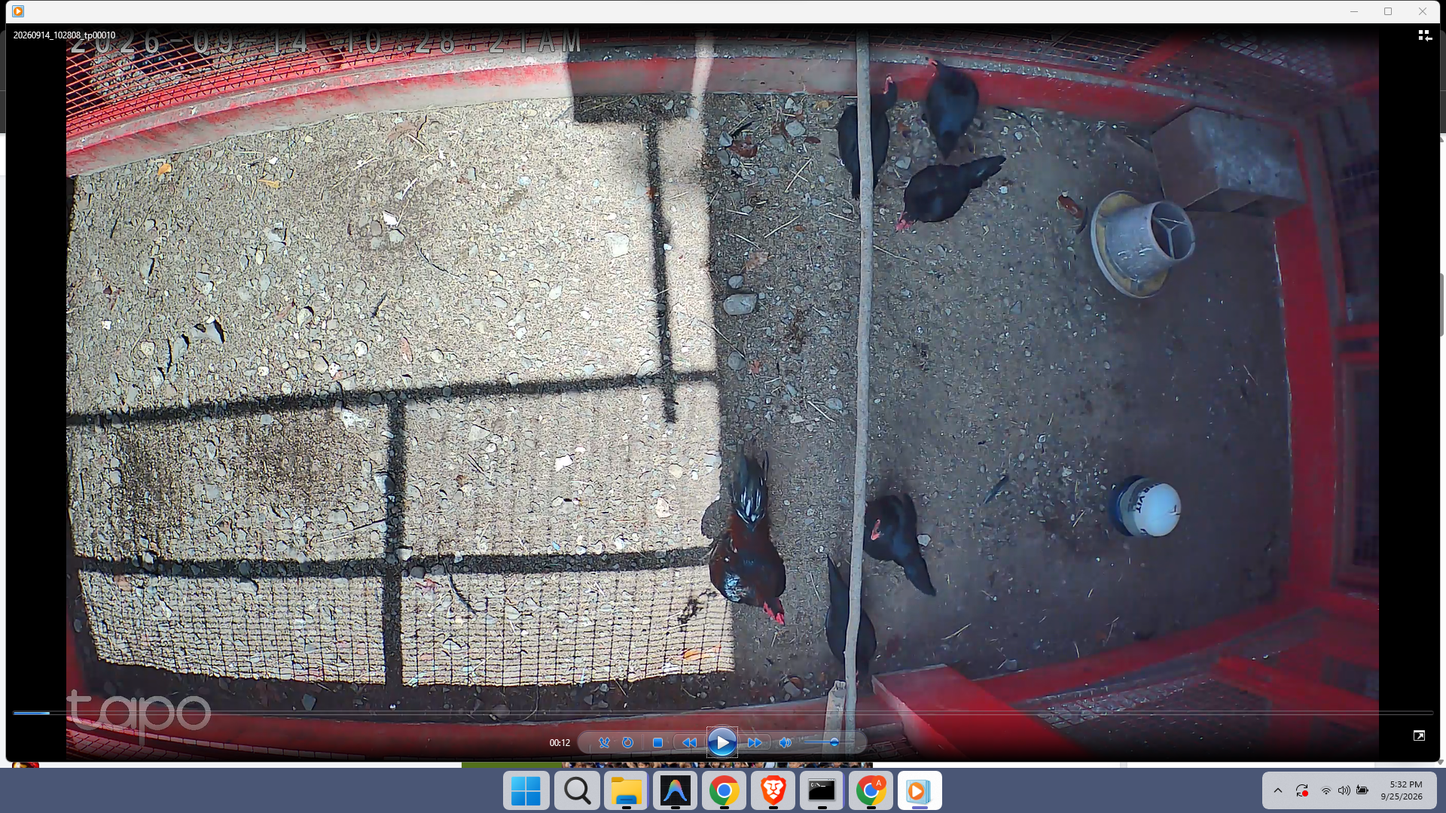Chicken: (889, 152, 1007, 235), (857, 490, 946, 597), (818, 550, 878, 695), (836, 72, 896, 200), (923, 56, 981, 159)
Drinker: (1105, 472, 1184, 541)
Feeder: (1088, 187, 1198, 300)
Rooster: (700, 448, 793, 629)
